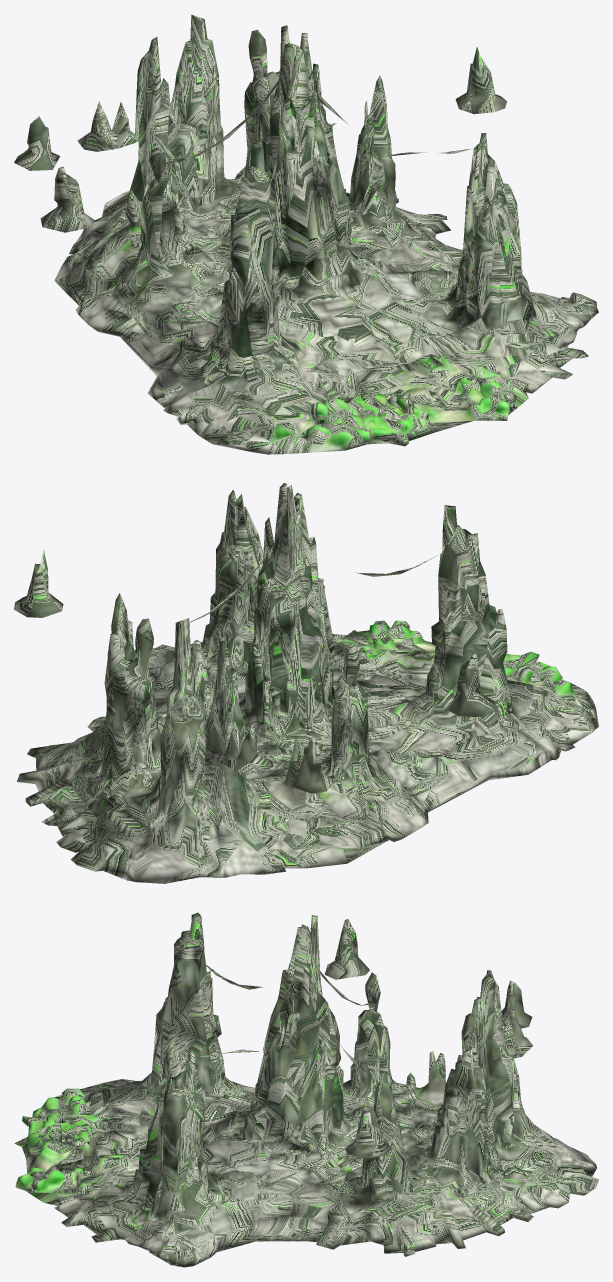
The model's file is Isle_of_the_Stone_Spi.glb.
3 views of the same model, one above another, from view 1: azimuth 30°, elevation 25°; view 2: azimuth 150°, elevation 25°; view 3: azimuth 270°, elevation 25° (orthographic). The views are drawn at different scales.
Visible parts, largest first — view 1: Isle_of_the_Stone_Spi; view 2: Isle_of_the_Stone_Spi; view 3: Isle_of_the_Stone_Spi.
Boxes of the visible parts, bbox=[...] form: Isle_of_the_Stone_Spi: bbox=[14, 14, 598, 454]; Isle_of_the_Stone_Spi: bbox=[14, 483, 598, 883]; Isle_of_the_Stone_Spi: bbox=[14, 912, 598, 1267].
Size of the model in its own units: 1.56 by 0.8981 by 1.9.
1 material, 1 textured.
